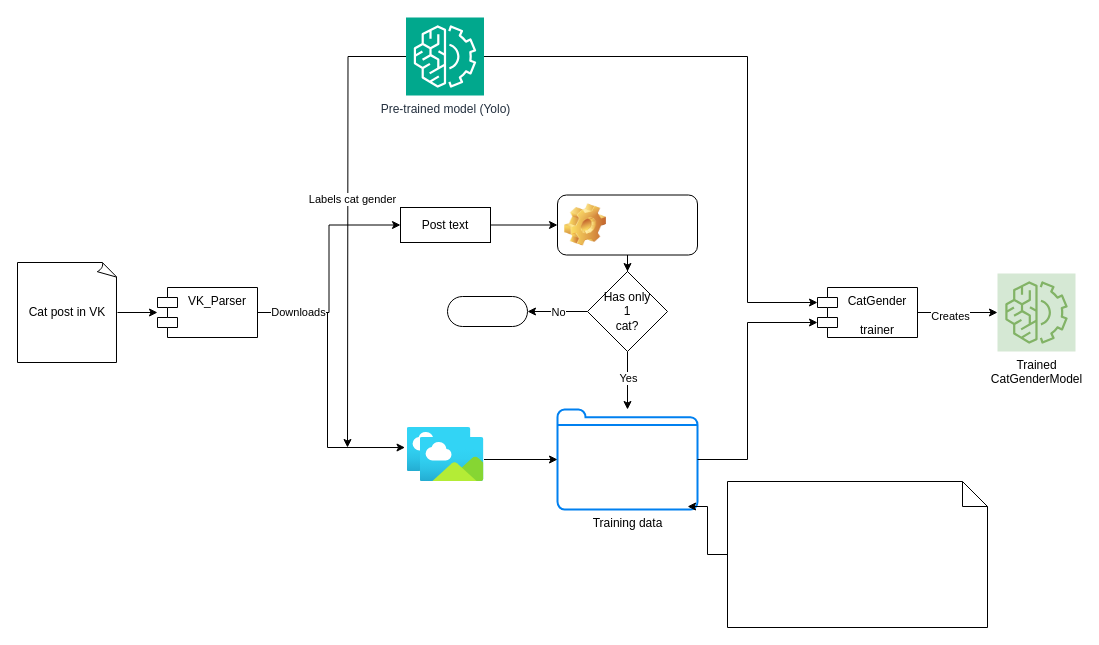
This 1099x645 diagram has some shape labels left out. Each missing label, with the centre of its shape:
"Cat gender label" belongs at point 627,224.
"Drop post" belongs at point 487,311.
"List of objects: { id: uint label: enum[CatGender] image: np.ndarray }" belongs at point 857,554.
"Post images" belongs at point 452,459.
